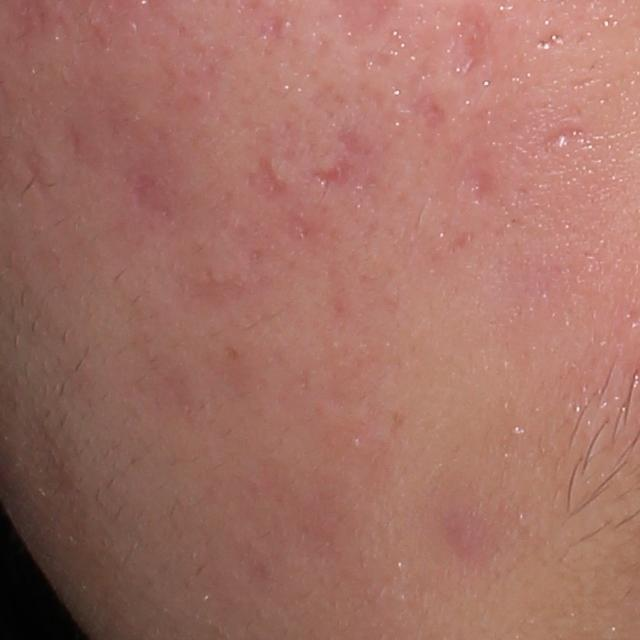atrophic_scar: (239, 150, 307, 204), (132, 169, 185, 231), (453, 8, 494, 82), (403, 93, 458, 138), (463, 165, 501, 207), (253, 5, 286, 47), (301, 164, 351, 191), (540, 125, 594, 148), (533, 28, 571, 56)
